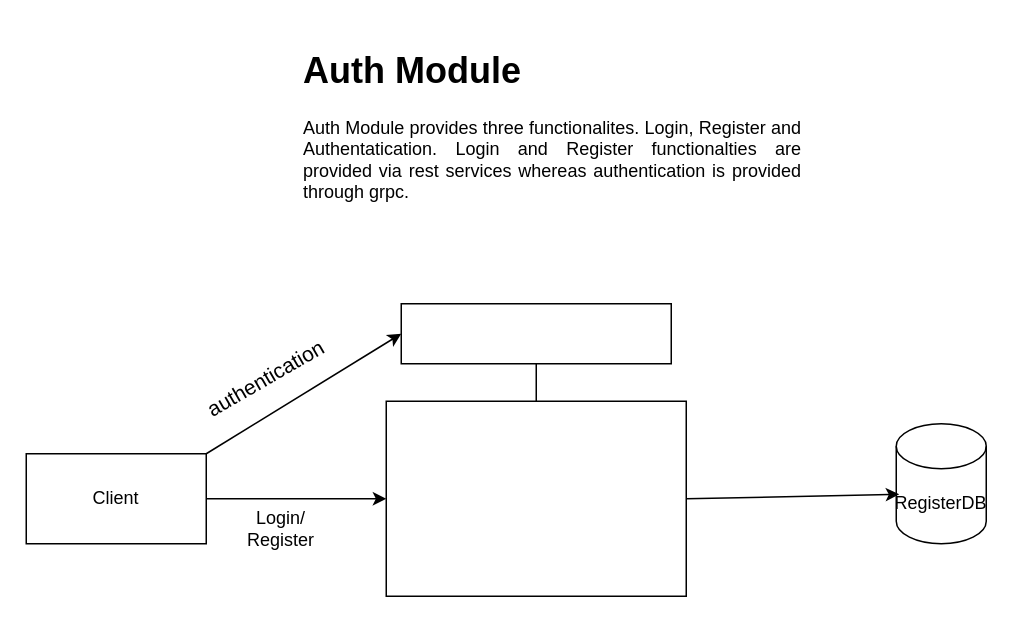
Some shapes in this 1013 by 623 pixel diagram are drawn without their labels. The centre of each missing label's shape, as x and y in pixels:
"Auth GRPC Server" belongs at (x=535, y=333).
"Auth Server" belongs at (x=535, y=498).
